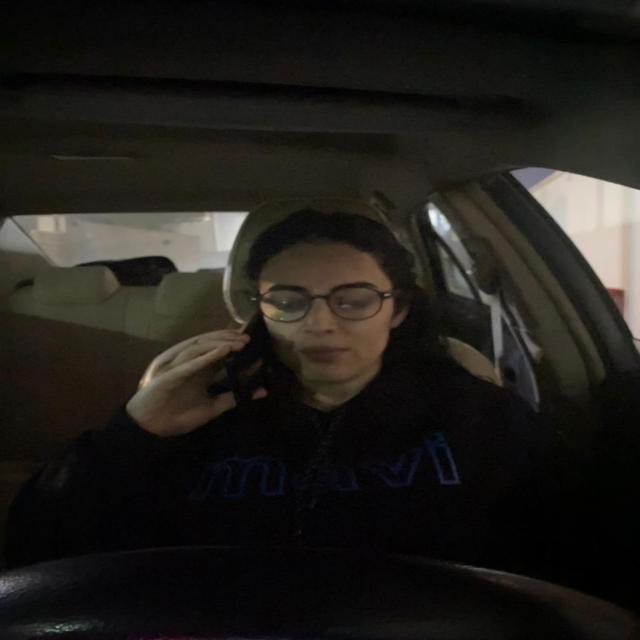mobile: (218, 315, 274, 405)
person: (245, 200, 421, 403)
